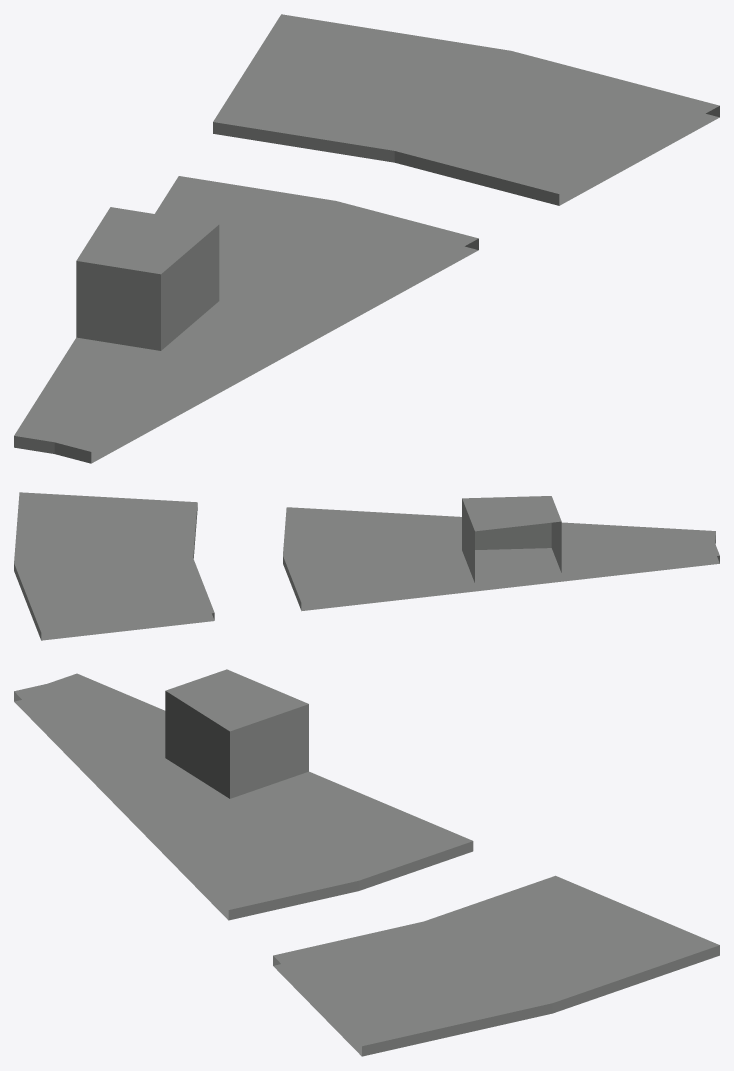
File: middle_03.obj
The picture shows the model from 3 angles, top to bottom: view 1: azimuth 30°, elevation 25°; view 2: azimuth 150°, elevation 25°; view 3: azimuth 270°, elevation 25°; orthographic projection. The views are drawn at different scales.
Visible parts, largest first — view 1: Cylinder.026; view 2: Cylinder.026; view 3: Cylinder.026.
Part boxes in pixels (x1=…): Cylinder.026: x1=14, y1=14, x2=719, y2=463; Cylinder.026: x1=14, y1=492, x2=719, y2=640; Cylinder.026: x1=14, y1=669, x2=719, y2=1056.
Size of the model in its own units: 30.8 by 3 by 24.65.
